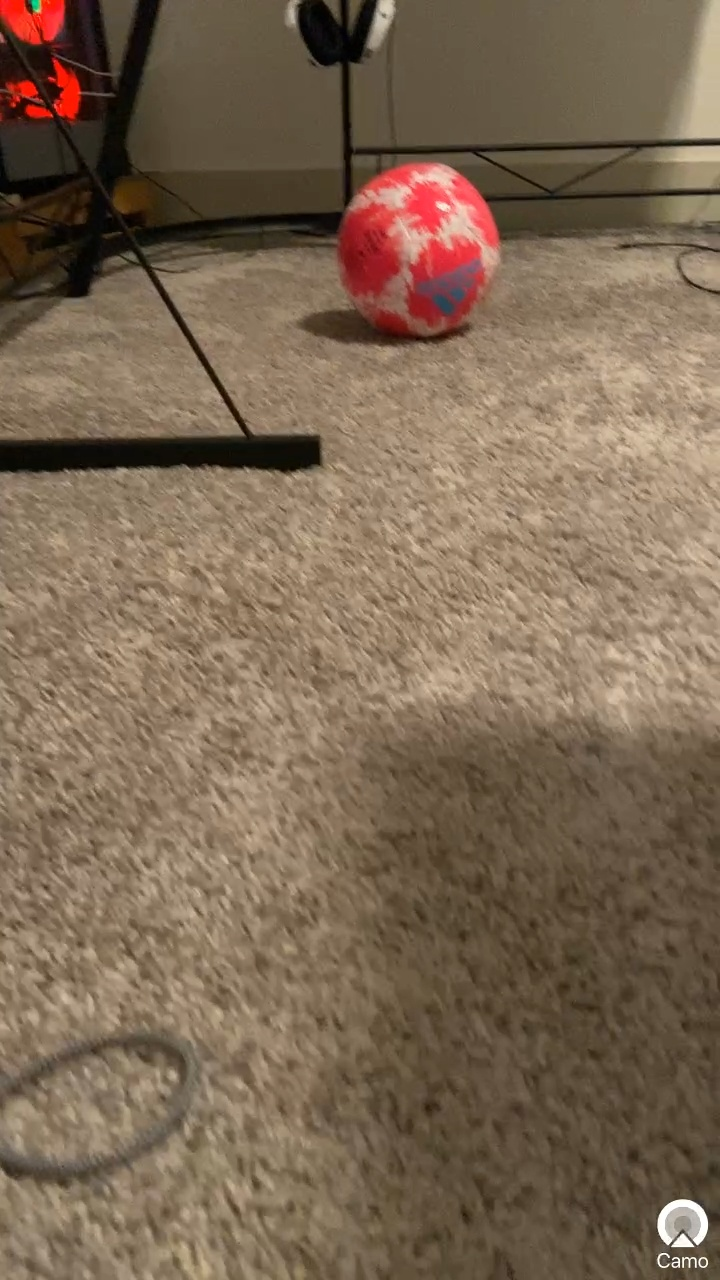Soccer_Ball: (315, 152, 520, 364)
